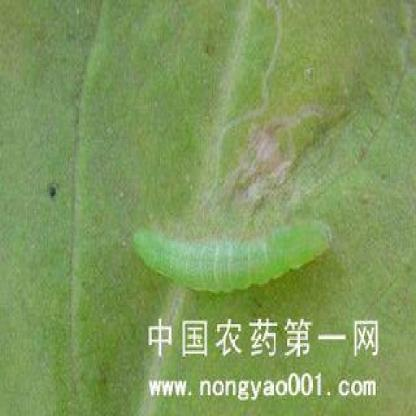armyworm: (132, 220, 342, 294)
